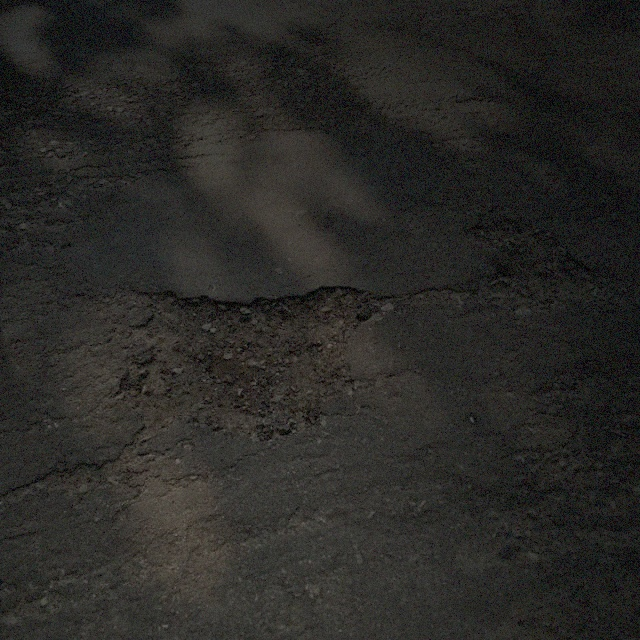pothole: (109, 277, 369, 450), (463, 212, 599, 318)
